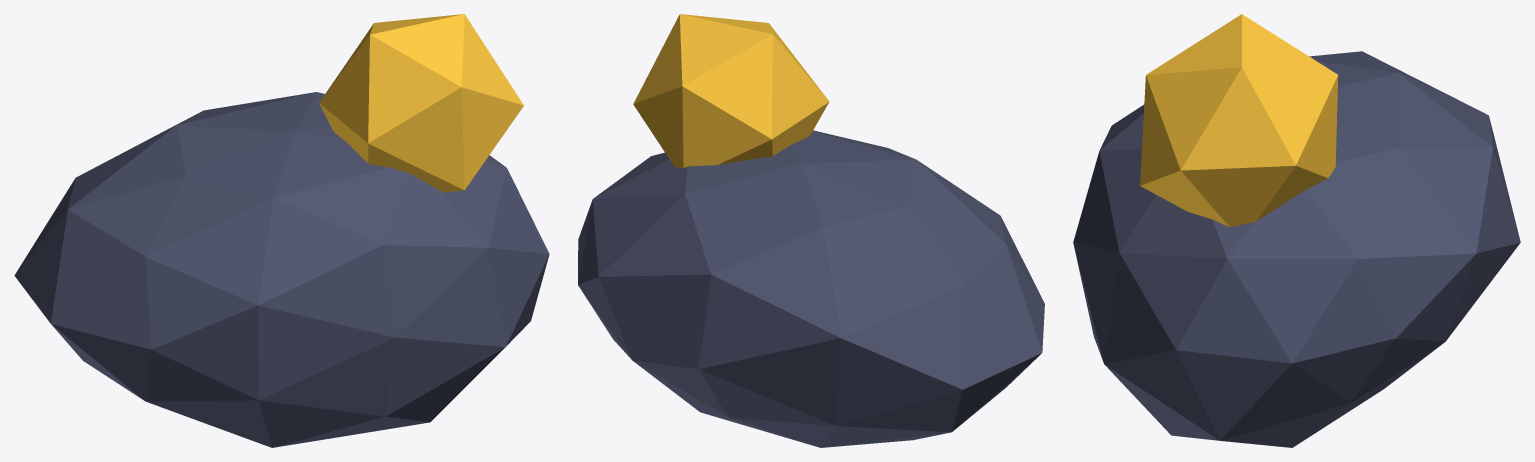
The model's file is BigBadVacuumDebris.obj.
The picture shows the model from 3 angles, left to right: view 1: azimuth 30°, elevation 25°; view 2: azimuth 150°, elevation 25°; view 3: azimuth 270°, elevation 25°; orthographic projection. The views are drawn at different scales.
Visible parts, largest first — view 1: Chunk, Spark; view 2: Chunk, Spark; view 3: Chunk, Spark.
Boxes of the visible parts, box(x1,y1,x2,y2) form: Chunk: box(14, 92, 549, 447); Spark: box(319, 14, 523, 192); Chunk: box(578, 130, 1044, 447); Spark: box(633, 14, 829, 168); Chunk: box(1073, 51, 1520, 447); Spark: box(1140, 14, 1338, 227).
Size of the model in its own units: 2.36 by 1.83 by 1.77.
